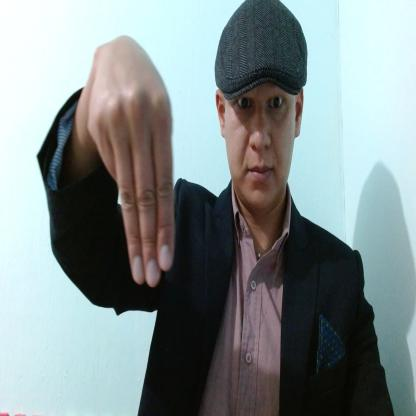M: (87, 33, 174, 287)
